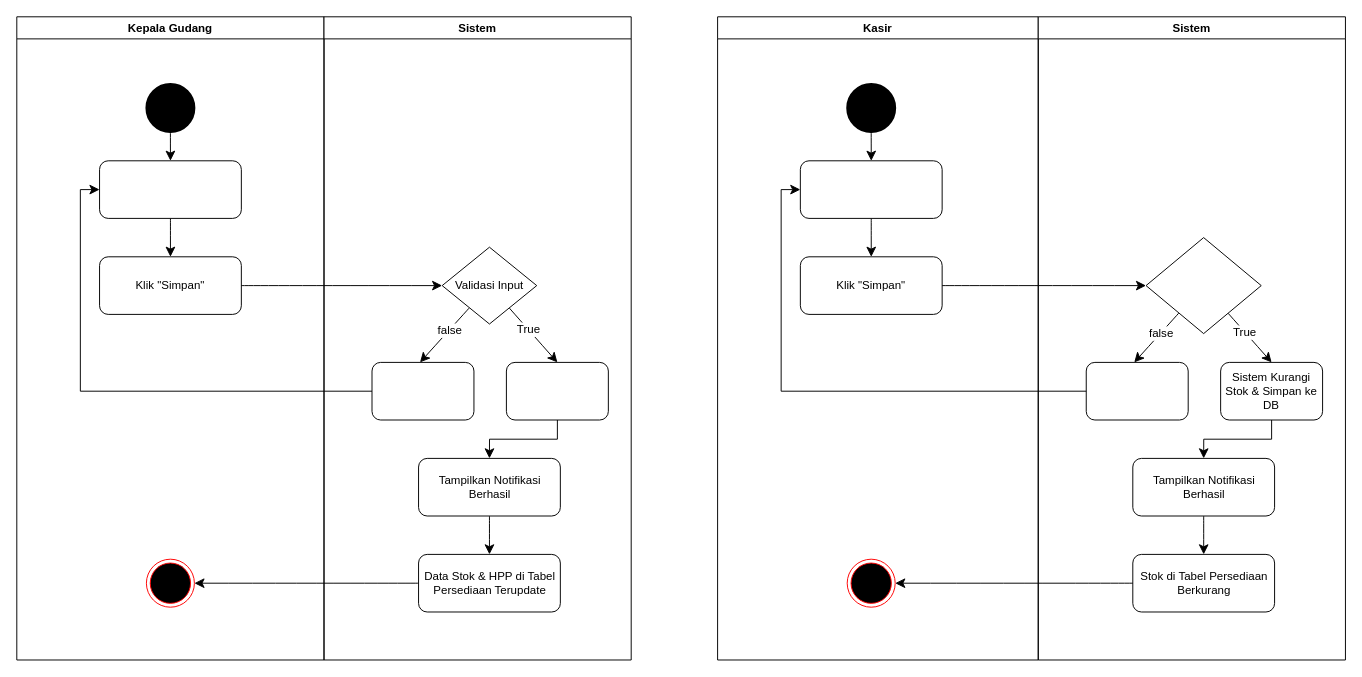
Some shapes in this 1362 by 677 pixel diagram are drawn without their labels. Each missing label, with the centre of its shape:
"Hitung HPP Moving Average & Simpan ke DB" goes at (x=556, y=390).
"Input Data (barang keluar)" goes at (x=870, y=189).
"Input Data (barang masuk)" goes at (x=170, y=189).
"Menampilkan Notifikasi Error" goes at (x=422, y=390).
"Stok Fisik Tersedia >= Qty Keluar?" goes at (x=1203, y=285).
"Tampilkan Notifikasi Kesalahan" goes at (x=1136, y=390).
